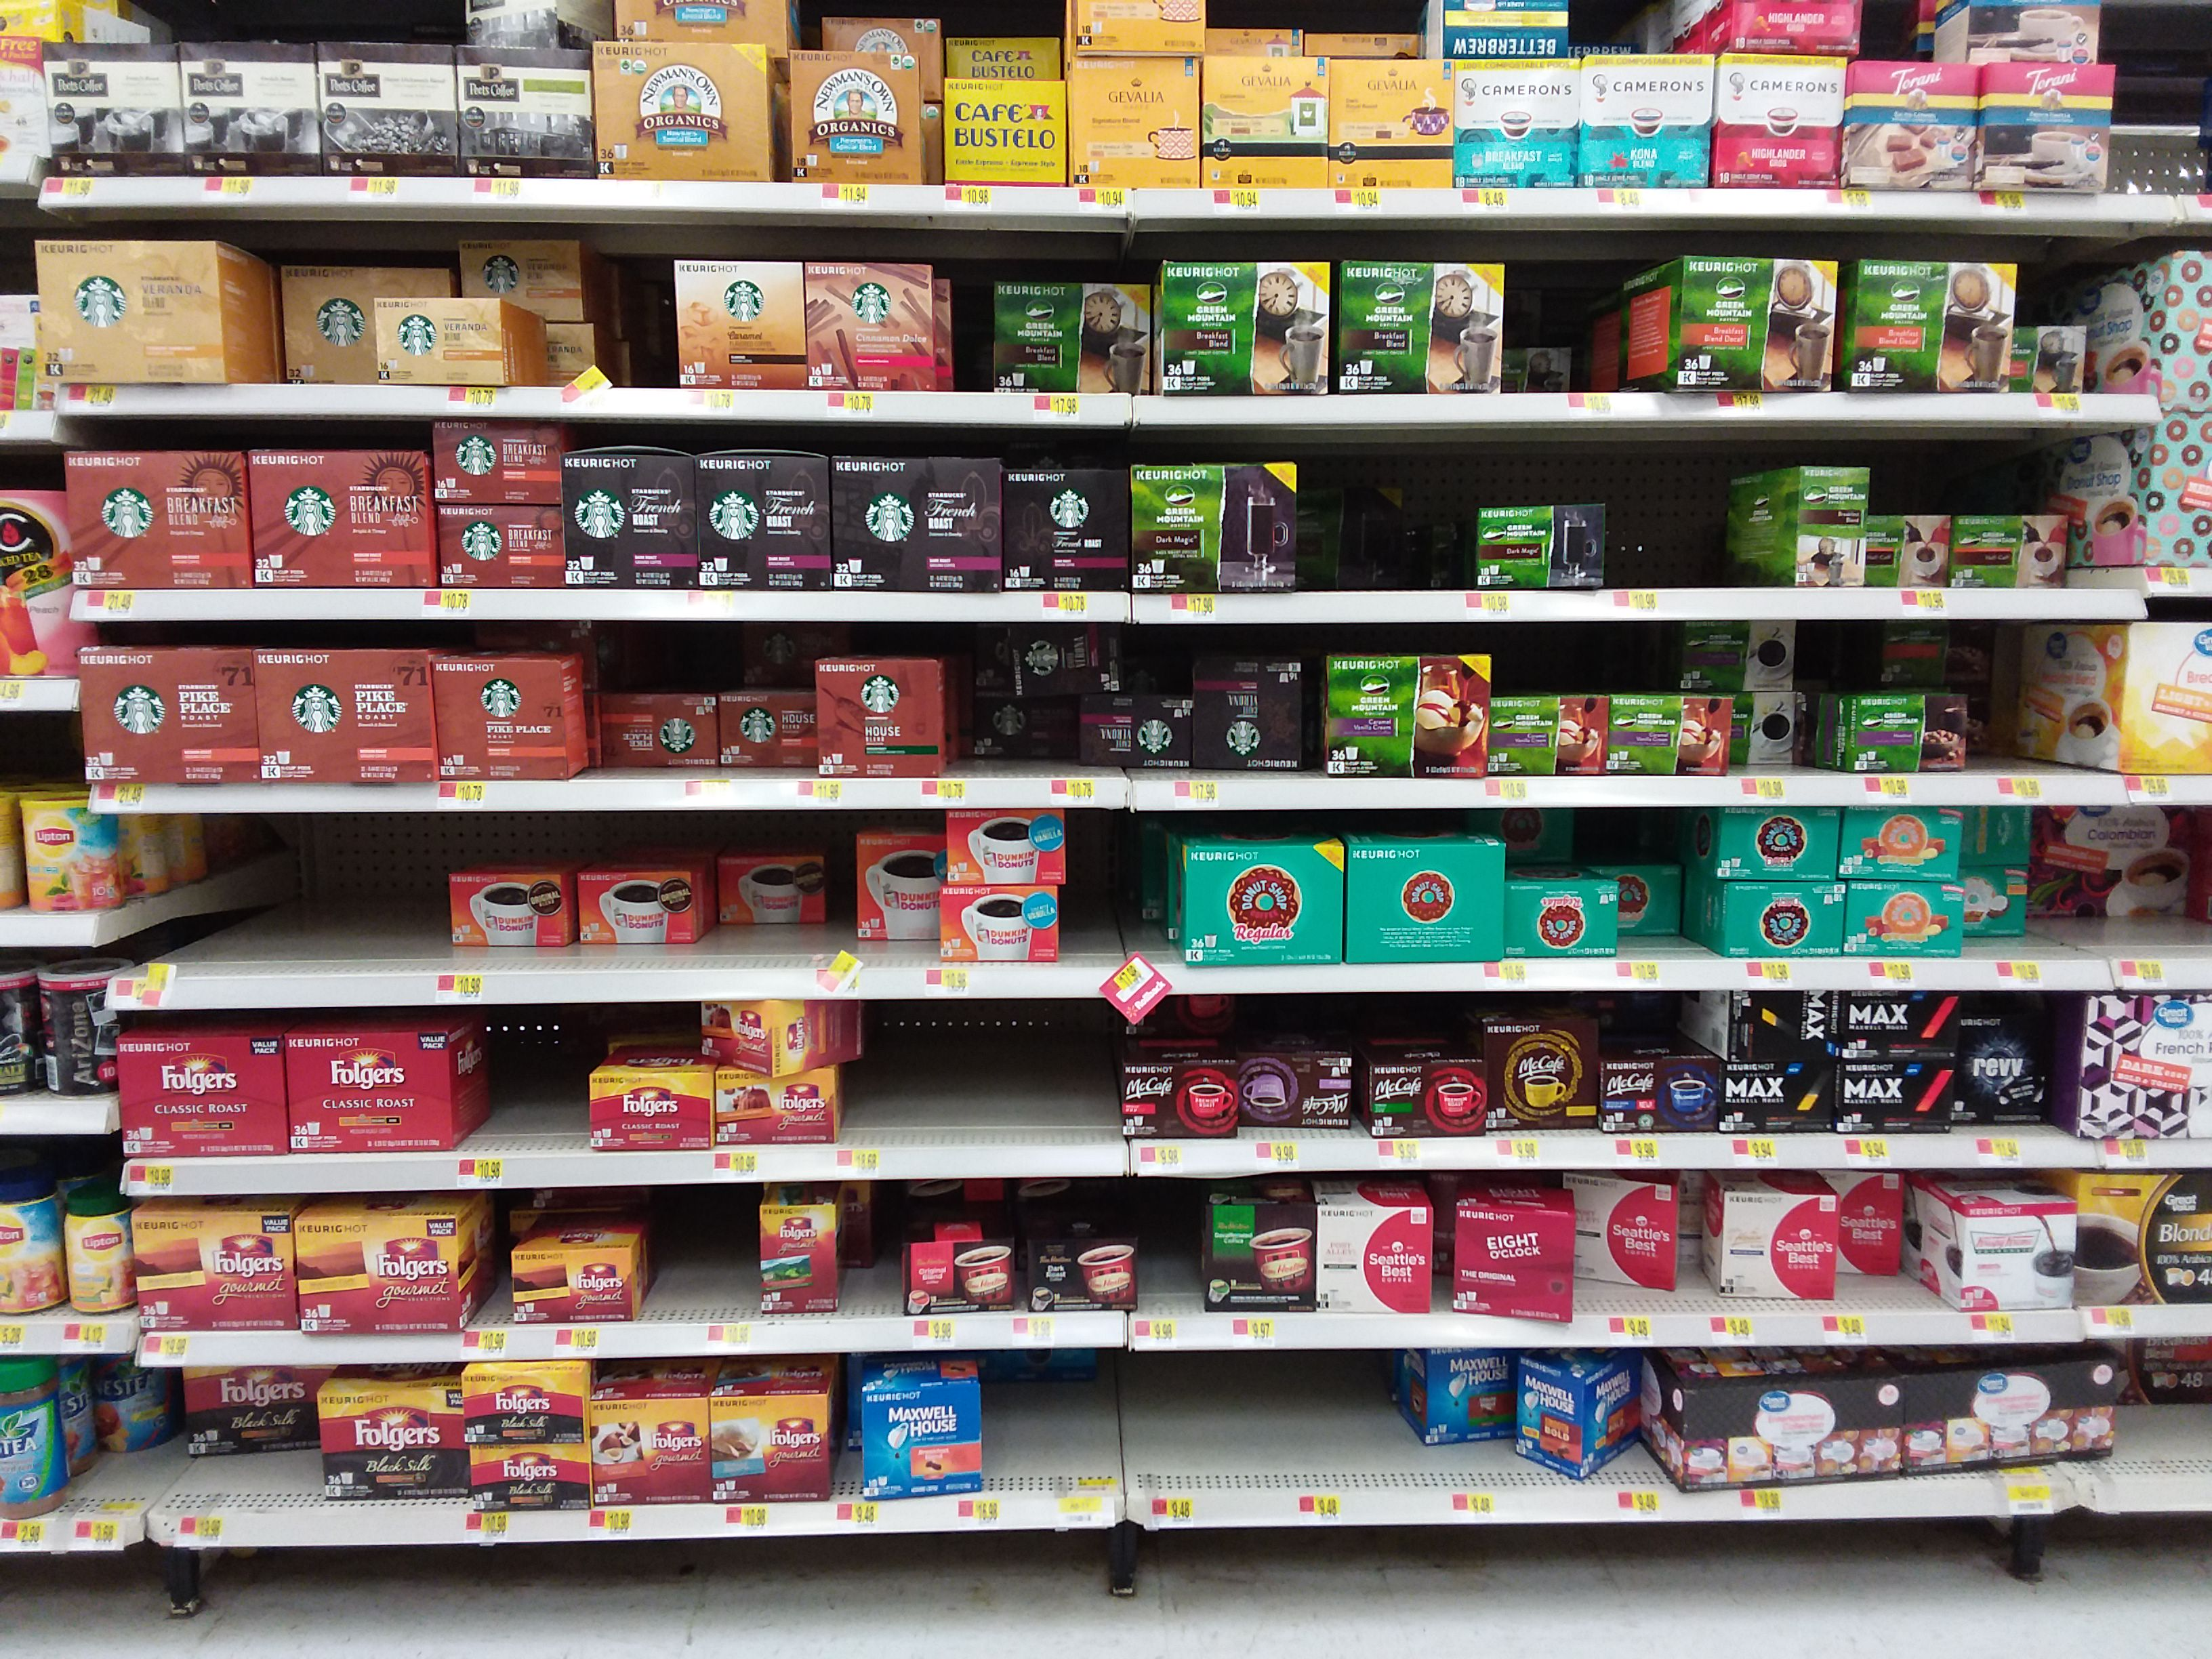product: (33, 235, 239, 380), (2027, 626, 2210, 769), (1625, 265, 1836, 389), (590, 40, 775, 176), (63, 451, 247, 584), (254, 451, 430, 589), (82, 648, 260, 784), (833, 457, 1001, 591), (1162, 261, 1331, 394), (1850, 258, 2013, 394), (1129, 464, 1296, 593), (261, 652, 430, 779), (1341, 260, 1501, 392), (1676, 1387, 1900, 1478), (1331, 657, 1491, 779), (2074, 995, 2212, 1136), (286, 1040, 453, 1155), (1188, 843, 1346, 964), (996, 281, 1162, 396), (1907, 1375, 2113, 1467), (118, 1039, 282, 1152), (42, 42, 181, 174), (298, 1220, 460, 1333), (700, 450, 833, 587), (138, 1213, 291, 1330), (1352, 843, 1505, 960), (181, 40, 317, 171), (1984, 63, 2113, 199), (319, 1387, 463, 1507), (1580, 52, 1709, 186), (322, 44, 458, 171), (789, 52, 918, 185), (566, 453, 695, 586), (1848, 59, 1975, 193), (2076, 1176, 2212, 1302), (462, 45, 590, 176), (1731, 464, 1865, 589), (1717, 54, 1841, 190), (1200, 58, 1327, 186), (2033, 809, 2186, 915), (1456, 59, 1580, 190), (1331, 56, 1454, 186), (1075, 58, 1198, 188), (674, 260, 801, 385), (810, 261, 932, 389), (1001, 469, 1123, 591), (820, 660, 946, 779), (439, 664, 568, 777), (1515, 1359, 1639, 1473), (1461, 1202, 1573, 1324), (1717, 1190, 1838, 1302), (1951, 1201, 2076, 1307), (948, 78, 1069, 186), (1317, 1206, 1433, 1312), (592, 1396, 709, 1502), (869, 1385, 984, 1492), (1965, 999, 2055, 1127), (1487, 1021, 1595, 1129), (1209, 1202, 1315, 1310), (716, 1396, 826, 1500), (378, 298, 507, 382), (1198, 662, 1299, 769), (1578, 1180, 1676, 1288), (2, 490, 57, 676), (19, 803, 118, 908), (1298, 486, 1399, 587), (284, 267, 369, 385), (1475, 507, 1604, 586), (183, 1371, 303, 1455), (704, 1004, 862, 1066), (437, 505, 559, 586), (1839, 697, 1966, 774), (0, 1366, 63, 1520), (437, 420, 559, 498), (1928, 3, 2099, 59), (590, 1073, 712, 1150), (1611, 697, 1726, 775), (453, 871, 568, 950), (853, 831, 935, 939), (939, 887, 1059, 958), (577, 873, 702, 941), (42, 965, 110, 1091), (1245, 1047, 1352, 1127), (1125, 1065, 1238, 1140), (510, 1253, 634, 1321), (758, 1204, 836, 1310), (603, 694, 716, 767), (1951, 518, 2064, 591), (1723, 884, 1841, 953), (1369, 1065, 1486, 1134), (1496, 701, 1604, 775), (469, 1445, 592, 1509), (1844, 809, 1956, 880), (1602, 1063, 1719, 1131), (1850, 882, 1958, 955), (59, 1192, 125, 1310), (904, 1241, 1014, 1312), (465, 1371, 580, 1439), (1717, 809, 1838, 873), (2, 1168, 56, 1310), (1421, 1351, 1508, 1438), (1433, 2, 1573, 56), (719, 1077, 834, 1141), (948, 814, 1062, 878), (1723, 992, 1829, 1061), (1028, 1243, 1136, 1310), (1724, 1063, 1832, 1131), (1836, 1065, 1946, 1131), (462, 239, 580, 300), (604, 0, 784, 40), (1843, 993, 1956, 1056), (1083, 697, 1186, 765), (1510, 887, 1611, 955), (716, 856, 824, 918), (719, 692, 813, 763), (1677, 622, 1797, 678), (1012, 627, 1120, 688), (1075, 2, 1204, 52), (1726, 2, 1862, 49), (1843, 1168, 1900, 1274), (1886, 622, 1989, 680), (105, 1356, 169, 1446), (2123, 1342, 2209, 1410), (975, 702, 1075, 760), (1872, 512, 1946, 587), (1400, 521, 1470, 591), (2017, 326, 2088, 394), (948, 35, 1061, 75), (822, 14, 942, 51), (1735, 697, 1803, 762), (2, 957, 31, 1094), (744, 620, 806, 685), (1968, 870, 2027, 936), (1123, 999, 1224, 1037), (1623, 871, 1681, 934), (1505, 345, 1576, 392), (1599, 993, 1679, 1035), (1508, 812, 1573, 861), (1968, 809, 2029, 859), (1305, 30, 1418, 56), (909, 1180, 1007, 1206), (1012, 1180, 1101, 1206)
